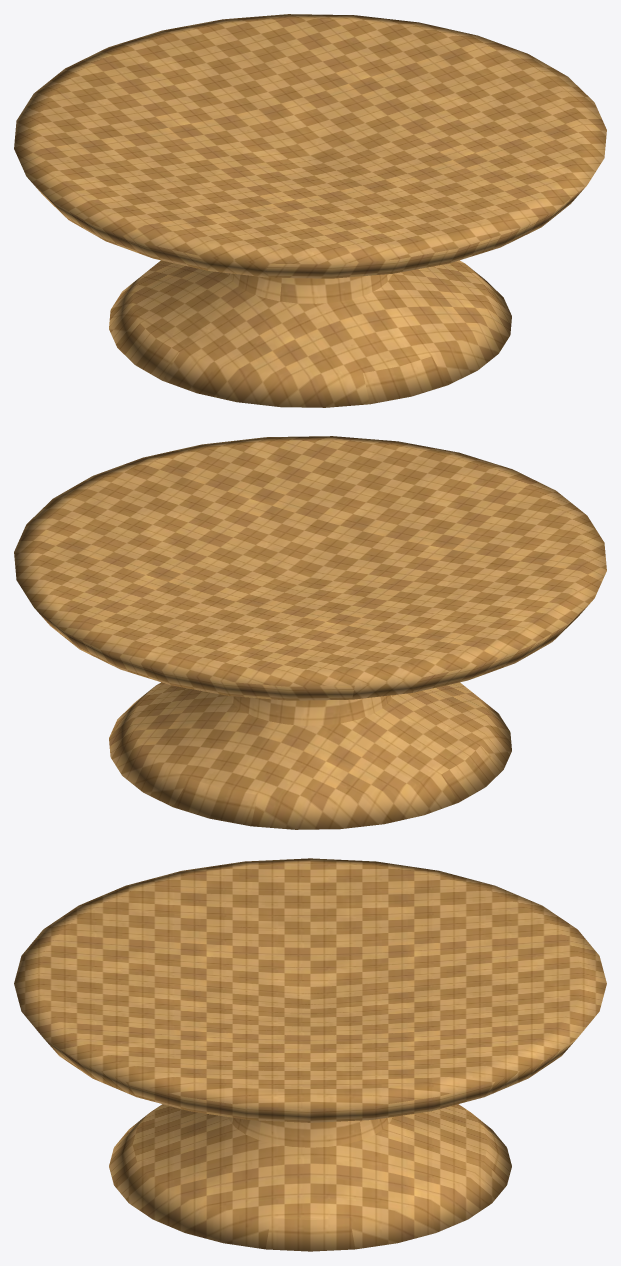
The model's file is gourd-prop-bowl-stand.glb.
The picture shows the model from 3 angles, top to bottom: view 1: azimuth 30°, elevation 25°; view 2: azimuth 150°, elevation 25°; view 3: azimuth 270°, elevation 25°; orthographic projection.
Visible parts, largest first — view 1: tray; view 2: tray; view 3: tray.
Boxes of the visible parts, x1=… form: tray: x1=14, y1=14, x2=606, y2=407; tray: x1=14, y1=436, x2=606, y2=829; tray: x1=14, y1=858, x2=606, y2=1251.
Size of the model in its own units: 0.094 by 0.0329 by 0.094.
Materials: 2 (2 with a texture image).
